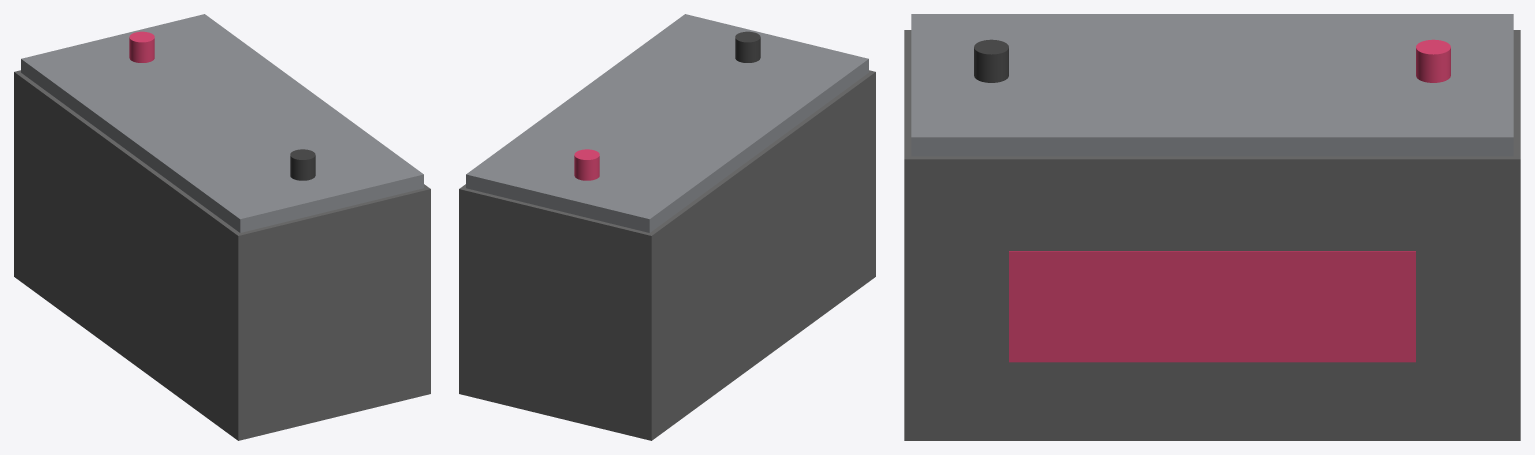
File: battery-ective.glb
The picture shows the model from 3 angles, left to right: view 1: azimuth 30°, elevation 25°; view 2: azimuth 150°, elevation 25°; view 3: azimuth 270°, elevation 25°; orthographic projection. The views are drawn at different scales.
Bounding box in the file's own units: 176 × 208 × 353.
